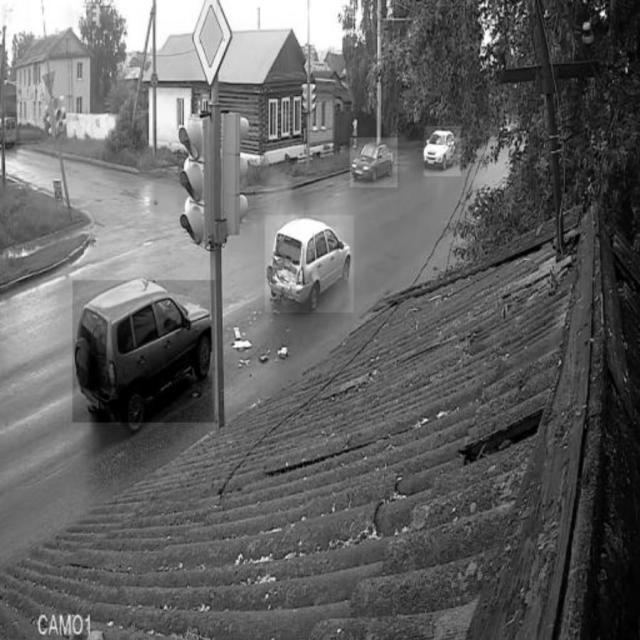vehicle: (73, 281, 215, 423), (266, 215, 354, 313), (351, 138, 398, 188), (425, 127, 462, 177), (0, 113, 20, 153)
